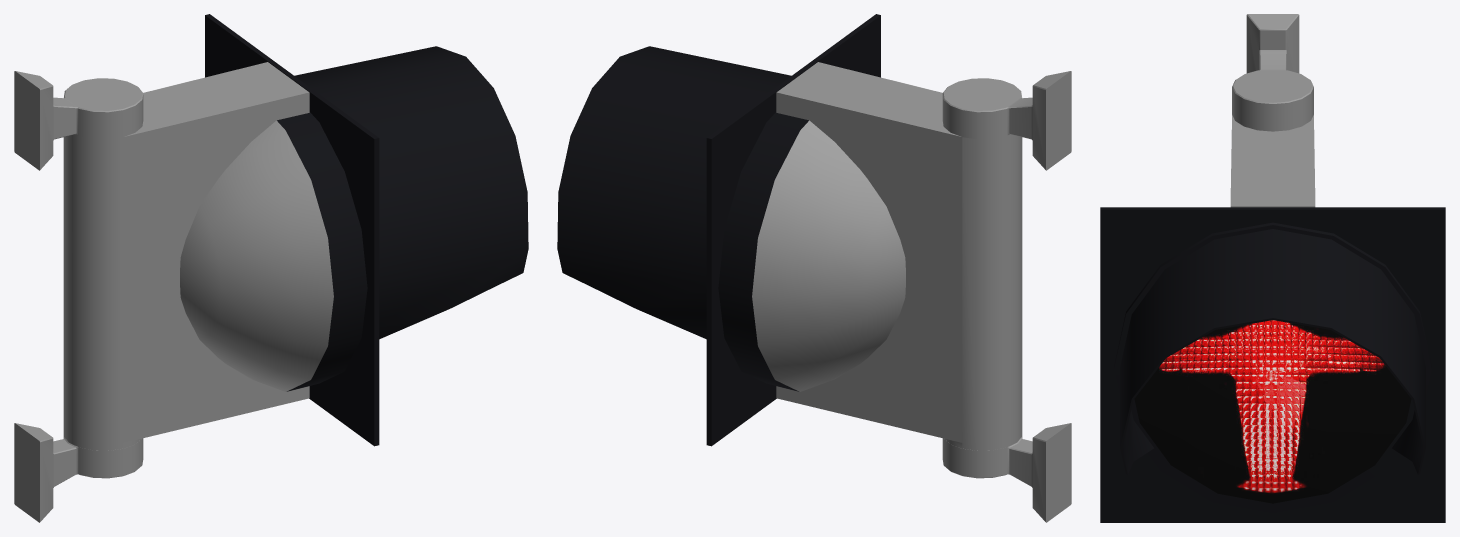
The model's file is Fussgaengerampel_rot_Mast.glb.
3 renders of one model, left to right at view 1: azimuth 30°, elevation 25°; view 2: azimuth 150°, elevation 25°; view 3: azimuth 270°, elevation 25°, orthographic. The views are drawn at different scales.
Visible parts, largest first — view 1: Cube.003, BezierCurve.001, Sonnenblende.003, Blende.003, Masthalterung.002, Masthalterung.003; view 2: Cube.003, BezierCurve.001, Sonnenblende.003, Blende.003, Masthalterung.002, Masthalterung.003; view 3: BezierCurve.001, Blende.003, Sonnenblende.003, Masthalterung.002, Cube.003.
Part boxes in pixels (<box>): Cube.003: <box>63,62,309,450</box>; BezierCurve.001: <box>180,112,367,391</box>; Sonnenblende.003: <box>294,46,528,339</box>; Blende.003: <box>205,14,379,446</box>; Masthalterung.002: <box>14,71,143,170</box>; Masthalterung.003: <box>14,423,143,522</box>; Cube.003: <box>776,62,1022,450</box>; BezierCurve.001: <box>718,112,905,391</box>; Sonnenblende.003: <box>557,46,791,339</box>; Blende.003: <box>706,14,880,446</box>; Masthalterung.002: <box>942,71,1071,170</box>; Masthalterung.003: <box>942,423,1071,522</box>; BezierCurve.001: <box>1114,222,1431,512</box>; Blende.003: <box>1100,207,1445,522</box>; Sonnenblende.003: <box>1120,229,1425,474</box>; Masthalterung.002: <box>1232,14,1313,131</box>; Cube.003: <box>1230,115,1315,207</box>.
Size of the model in its own units: 0.5668 by 0.5357 by 0.3789.
Materials: 3 (3 with a texture image).
